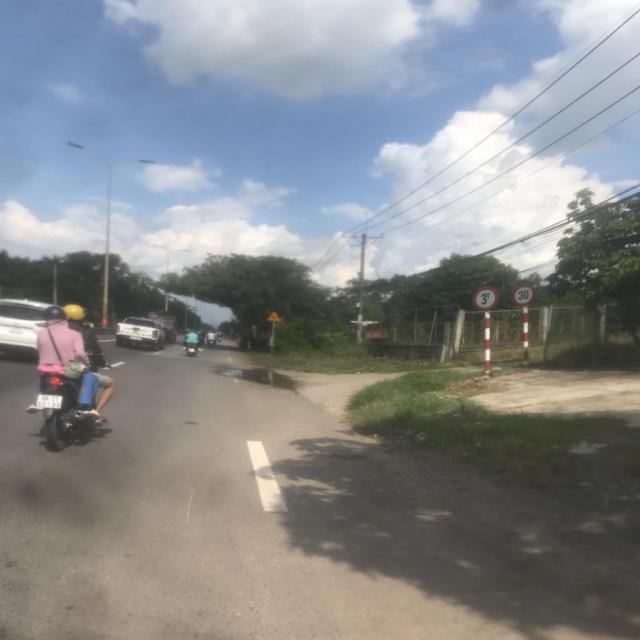chu_y_tre_em: (266, 310, 282, 322)
khac: (471, 286, 500, 310), (512, 284, 536, 306)
